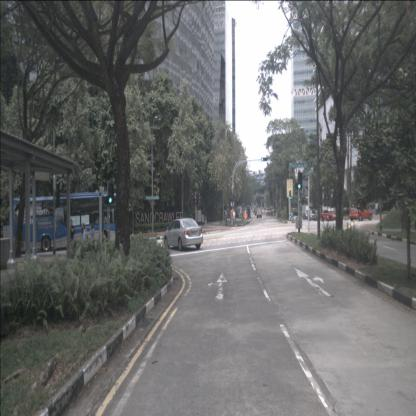human-pedestrian-adult: (80, 222, 88, 258), (89, 222, 96, 258), (69, 219, 75, 258), (230, 206, 235, 228), (224, 207, 229, 227), (232, 208, 236, 227), (374, 201, 378, 216)
vehicle-bus-rigid: (11, 191, 121, 255)
vehicle-car: (163, 217, 203, 250), (350, 203, 372, 221), (320, 209, 337, 222), (307, 209, 317, 221), (303, 210, 311, 220)
vehicle-truck: (257, 209, 262, 219)
